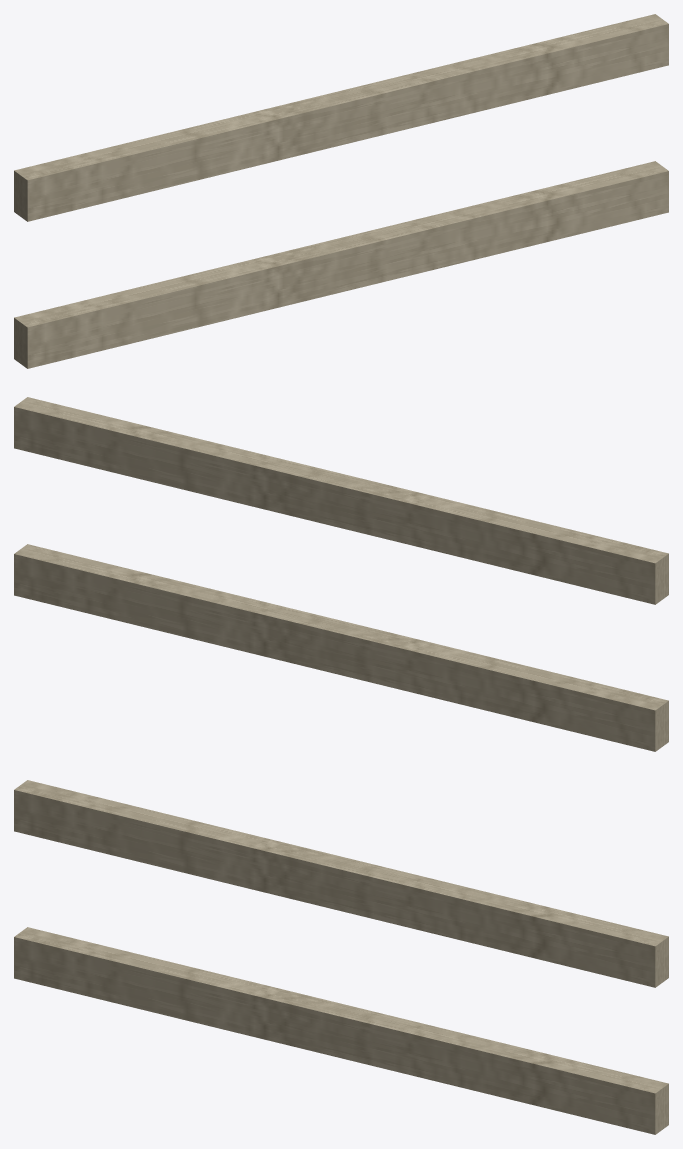
Rendered from fence_two_rail_section.glb.
The picture shows the model from 3 angles, top to bottom: view 1: azimuth 30°, elevation 25°; view 2: azimuth 150°, elevation 25°; view 3: azimuth 330°, elevation 25°; orthographic projection.
Visible parts, largest first — view 1: outdoor_fence_two_rail_section; view 2: outdoor_fence_two_rail_section; view 3: outdoor_fence_two_rail_section.
Boxes of the visible parts, x1,y1,x2,y2 form: outdoor_fence_two_rail_section: [14, 14, 668, 368]; outdoor_fence_two_rail_section: [14, 397, 668, 751]; outdoor_fence_two_rail_section: [14, 780, 668, 1134].
Size of the model in its own units: 1.78 by 0.5 by 0.065.
1 material, 1 textured.
